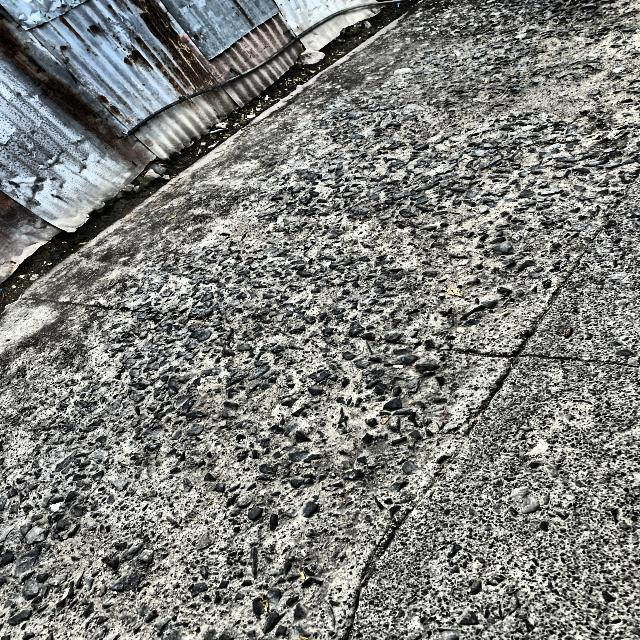major_scaling: (2, 3, 637, 640)
